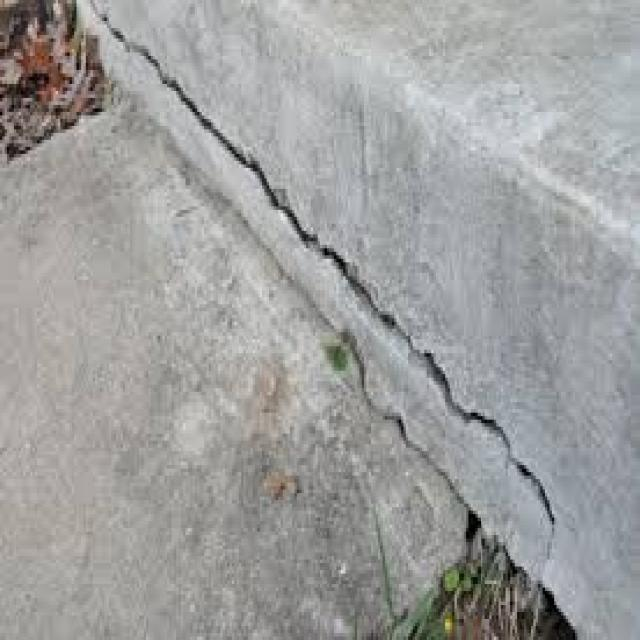Crack: (88, 0, 554, 535), (237, 206, 476, 528)
